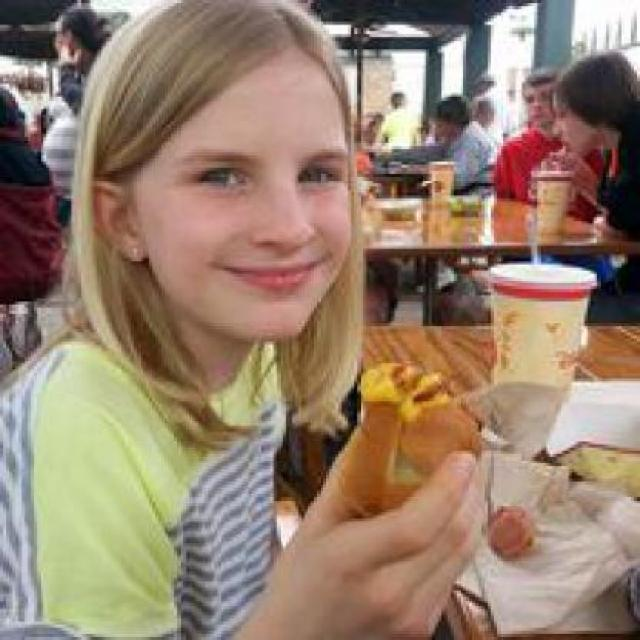hamburger: (338, 351, 484, 512), (487, 500, 547, 560)
macaroni and cheese: (355, 355, 450, 416)
